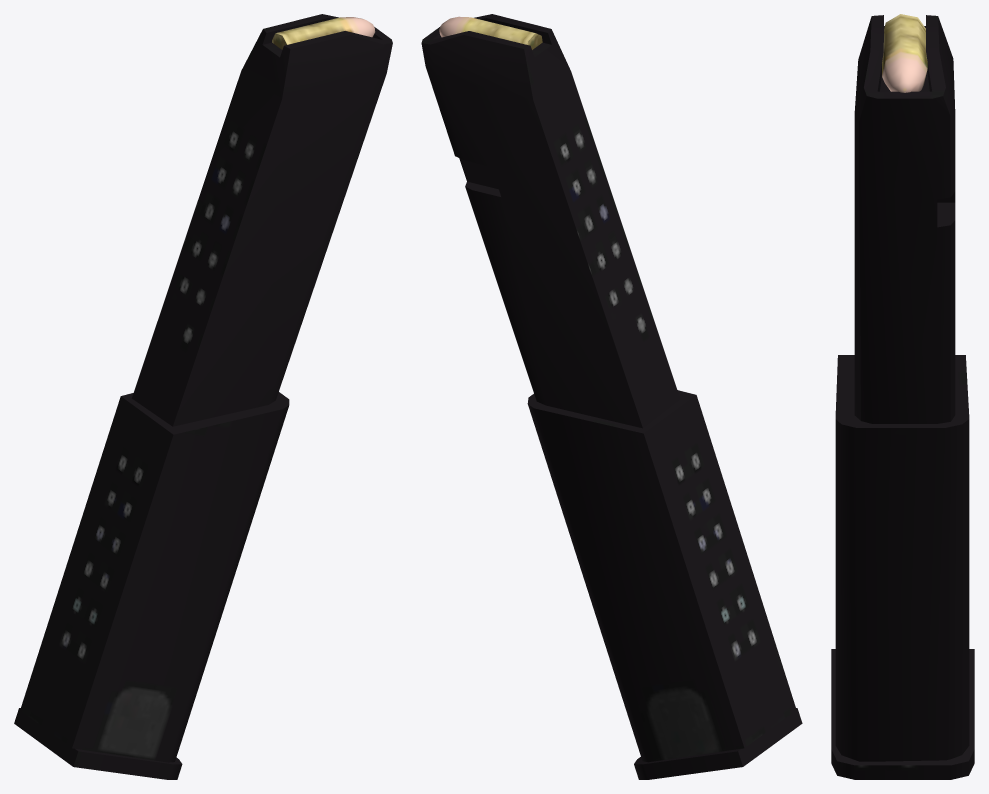
The model's file is ST_MAG_EX_G18C.FBX.
3 renders of one model, left to right at view 1: azimuth 30°, elevation 25°; view 2: azimuth 150°, elevation 25°; view 3: azimuth 270°, elevation 25°, orthographic. The views are drawn at different scales.
Parts seen in each view (by area): view 1: ST_MAG_EX_G18C; view 2: ST_MAG_EX_G18C; view 3: ST_MAG_EX_G18C.
Boxes of the visible parts, x1,y1,x2,y2 form: ST_MAG_EX_G18C: [14, 14, 392, 779]; ST_MAG_EX_G18C: [421, 14, 802, 779]; ST_MAG_EX_G18C: [831, 14, 974, 779].
Bounding box in the file's own units: 11.44 × 22.47 × 3.48.
Materials: 1 (1 with a texture image).
